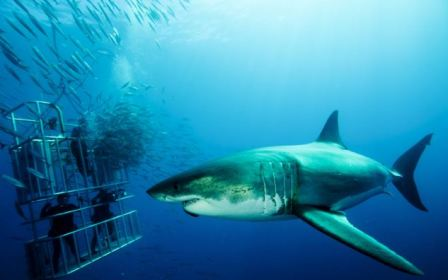shark: (142, 102, 448, 273)
